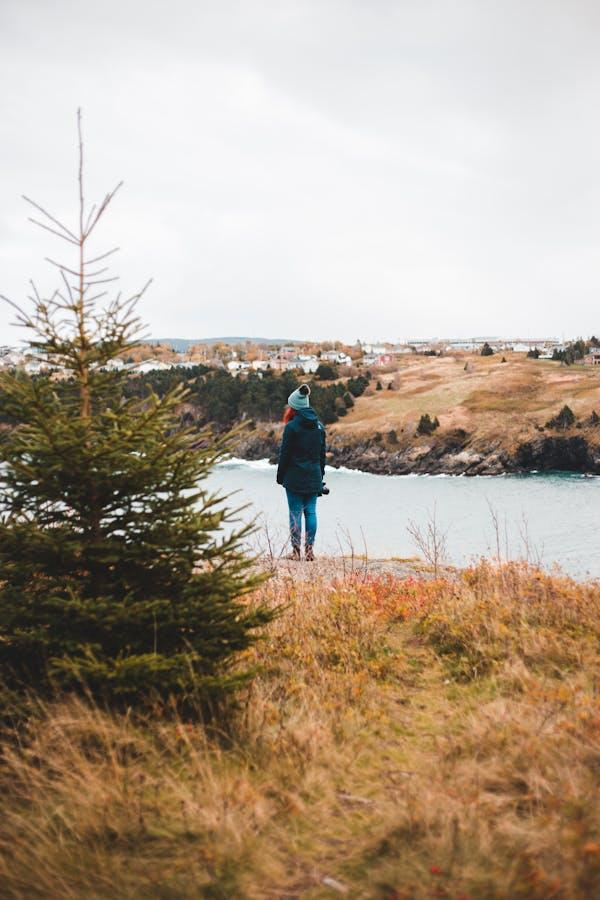Human: (258, 376, 344, 587)
